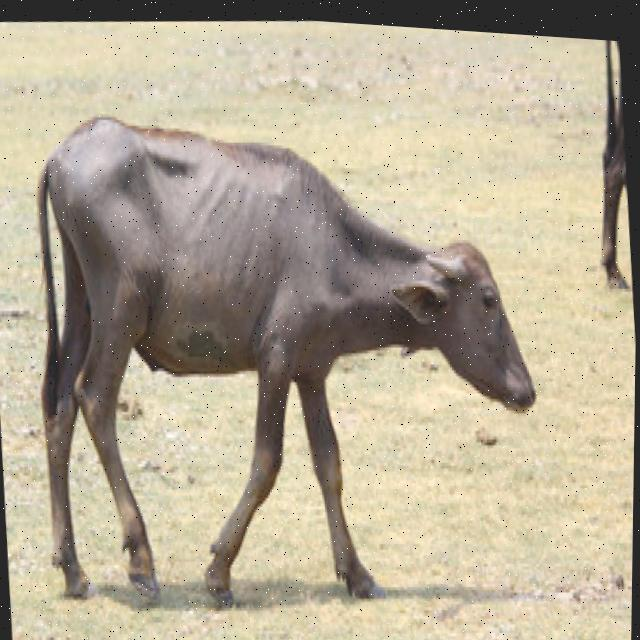Buffalo: (11, 67, 556, 635)
